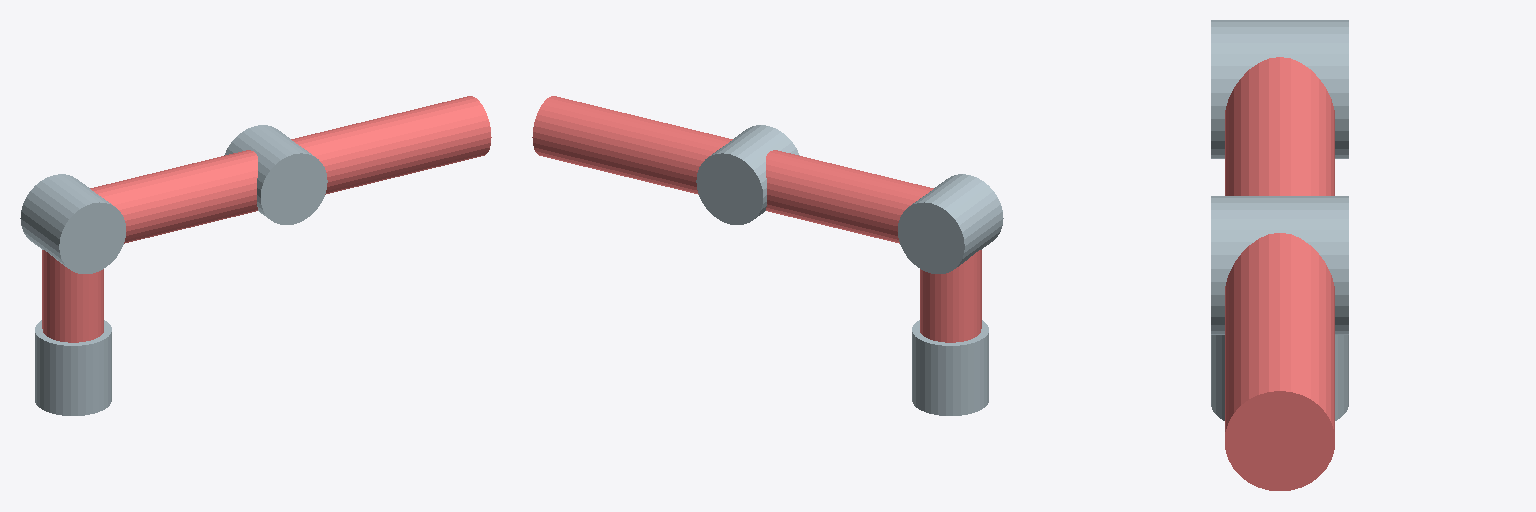
The robot description file, URDF, robot "robot":
<robot name='robot'>
	<material name='blue'>
		<color rgba='0 0 0.8 1'/>
	</material>
	<material name='red'>
		<color rgba='0.8 0 0 1'/>
	</material>
	<link name='a0'>
		<visual>
			<origin rpy='-0.0 0.0 0.0' xyz='0.0 0.0 0.0'/>
			<geometry>
				<cylinder length='0.1' radius='0.05'/>
			</geometry>
			<material name='blue'><color rgba='0.73 0.79 0.82 1'/></material>
		</visual>
	</link>
	<link name='l0'>
		<visual>
			<origin rpy='-0.0 0.0 0.0' xyz='0.0 0.0 0.1'/>
			<geometry>
				<cylinder length='0.2' radius='0.04'/>
			</geometry>
			<material name='grey'><color rgba='0.99 0.54 0.54 1'/></material>
		</visual>
	</link>
	<joint name='move_l0_from_a0' type='continuous'>
		<parent link='a0'/>
		<child link='l0'/>
		<axis xyz='0.0 0.0 1.0'/>
		<origin rpy='0 0 0' xyz='0.0 0.0 0.0'/>
	</joint>
	<link name='a1'>
		<visual>
			<origin rpy='1.5707963267948966 0.0 0.0' xyz='0.0 0.0 0.2'/>
			<geometry>
				<cylinder length='0.1' radius='0.05'/>
			</geometry>
			<material name='blue'><color rgba='0.73 0.79 0.82 1'/></material>
		</visual>
	</link>
	<joint name='fix_a1_to_l0' type='fixed'>
		<parent link='l0'/>
		<child link='a1'/>
		<origin rpy='0 0 0' xyz='0 0 0'/>
	</joint>
	<link name='l1'>
		<visual>
			<origin rpy='-0.0 1.5707963267948966 0.0' xyz='0.15 0.0 0.0'/>
			<geometry>
				<cylinder length='0.3' radius='0.04'/>
			</geometry>
			<material name='grey'><color rgba='0.99 0.54 0.54 1'/></material>
		</visual>
	</link>
	<joint name='move_l1_from_a1' type='continuous'>
		<parent link='a1'/>
		<child link='l1'/>
		<axis xyz='0.0 -1.0 0.0'/>
		<origin rpy='0 0 0' xyz='0.0 0.0 0.2'/>
	</joint>
	<link name='a2'>
		<visual>
			<origin rpy='1.5707963267948966 0.0 0.0' xyz='0.3 0.0 0.0'/>
			<geometry>
				<cylinder length='0.1' radius='0.05'/>
			</geometry>
			<material name='blue'><color rgba='0.73 0.79 0.82 1'/></material>
		</visual>
	</link>
	<joint name='fix_a2_to_l1' type='fixed'>
		<parent link='l1'/>
		<child link='a2'/>
		<origin rpy='0 0 0' xyz='0 0 0'/>
	</joint>
	<link name='l2'>
		<visual>
			<origin rpy='-0.0 1.5707963267948966 0.0' xyz='0.15 0.0 0.0'/>
			<geometry>
				<cylinder length='0.3' radius='0.04'/>
			</geometry>
			<material name='grey'><color rgba='0.99 0.54 0.54 1'/></material>
		</visual>
	</link>
	<joint name='move_l2_from_a2' type='continuous'>
		<parent link='a2'/>
		<child link='l2'/>
		<axis xyz='0.0 -1.0 0.0'/>
		<origin rpy='0 0 0' xyz='0.3 0.0 0.0'/>
	</joint>
</robot>

--- Facts derived from the render (not from the file) ---
Views: 3 orthographic renders of the robot side by side, from view 1: azimuth 30°, elevation 25°; view 2: azimuth 150°, elevation 25°; view 3: azimuth 270°, elevation 25°.
Robot: robot — 6 links, 5 joints (3 continuous, 2 fixed); root link a0; default pose: every joint at zero.
Links seen in each view (by area): view 1: l2, l1, a1, a0, a2, l0; view 2: l2, l1, a1, a0, a2, l0; view 3: l2, l1, a1, a2, a0.
Boxes of the visible links, x1,y1,x2,y2 form: l2: (291, 96, 491, 194); l1: (90, 150, 257, 243); a1: (20, 174, 125, 273); a0: (35, 320, 111, 415); a2: (224, 125, 327, 224); l0: (42, 250, 103, 342); l2: (532, 96, 732, 194); l1: (766, 150, 933, 243); a1: (898, 174, 1003, 273); a0: (912, 320, 988, 415); a2: (696, 125, 799, 224); l0: (920, 250, 981, 342); l2: (1225, 233, 1334, 490); l1: (1225, 57, 1334, 195); a1: (1211, 20, 1348, 158); a2: (1211, 196, 1348, 334); a0: (1211, 335, 1348, 420).
Bounding box of the posed robot: 0.65 × 0.1 × 0.3 m (x, y, z).
Geometry: primitives only (box / cylinder / sphere), no mesh files.